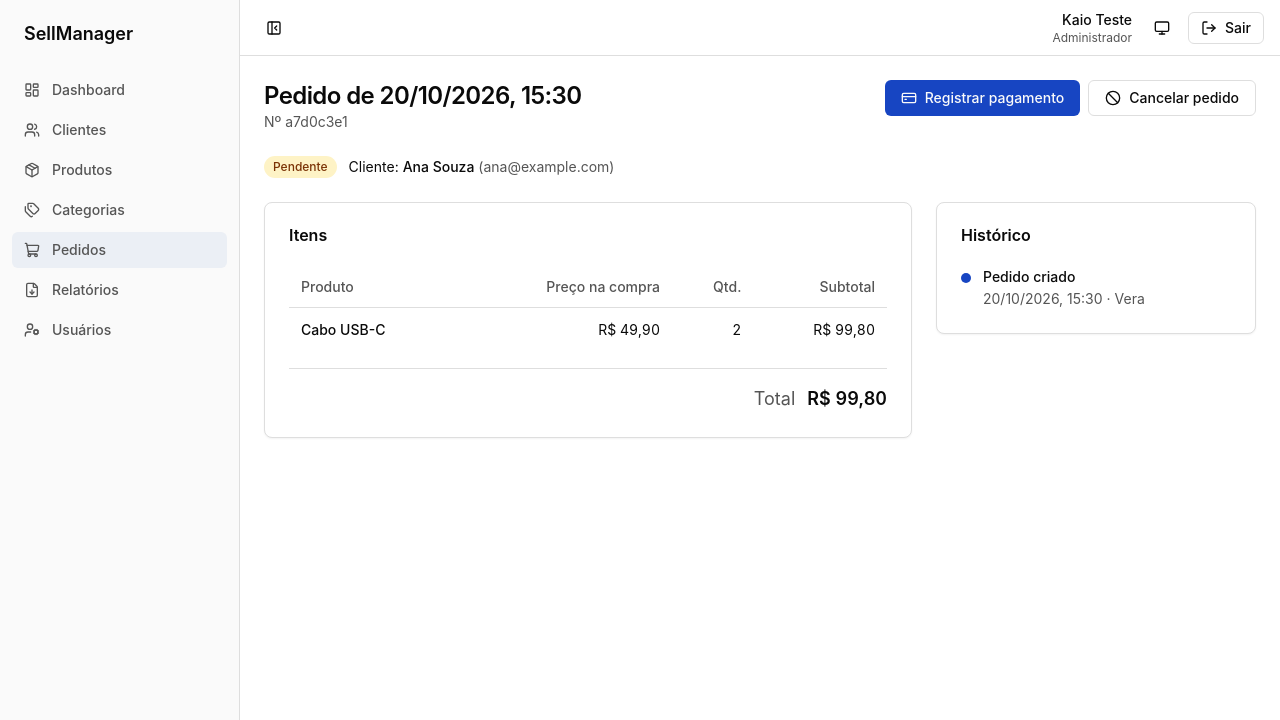
Test: Pedidos › detalhe mostra itens a preço da compra e cancela com motivo
The image size is (1280, 720).
Check: the text "R$ 49,90" is shown, box [458,308,672,352]
Check: the text "R$ 99,80" is shown, box [753,308,887,352]
Click the button "Cancelar pedido" at {"x": 1172, "y": 98}, box [1088,80,1256,116]
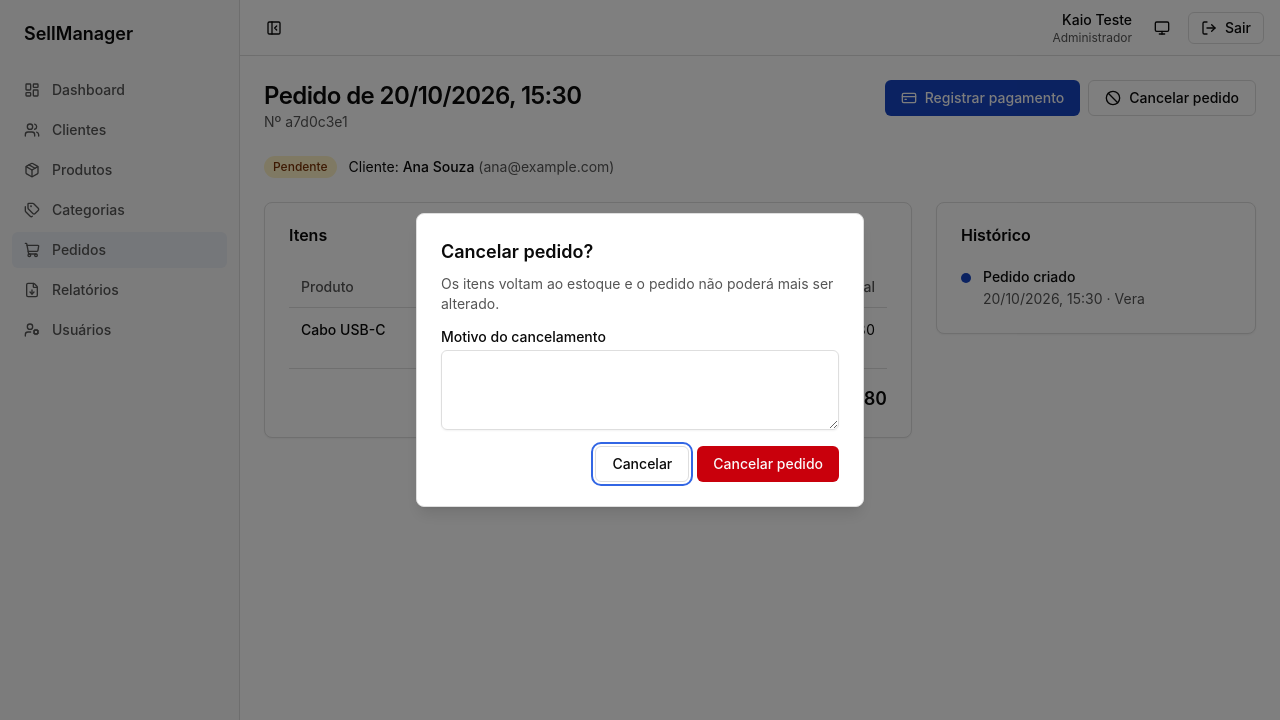
sem motivo: o schema do shared barra antes de chamar a API
Click the button "Cancelar pedido" at {"x": 768, "y": 464}, box [697,446,839,482]
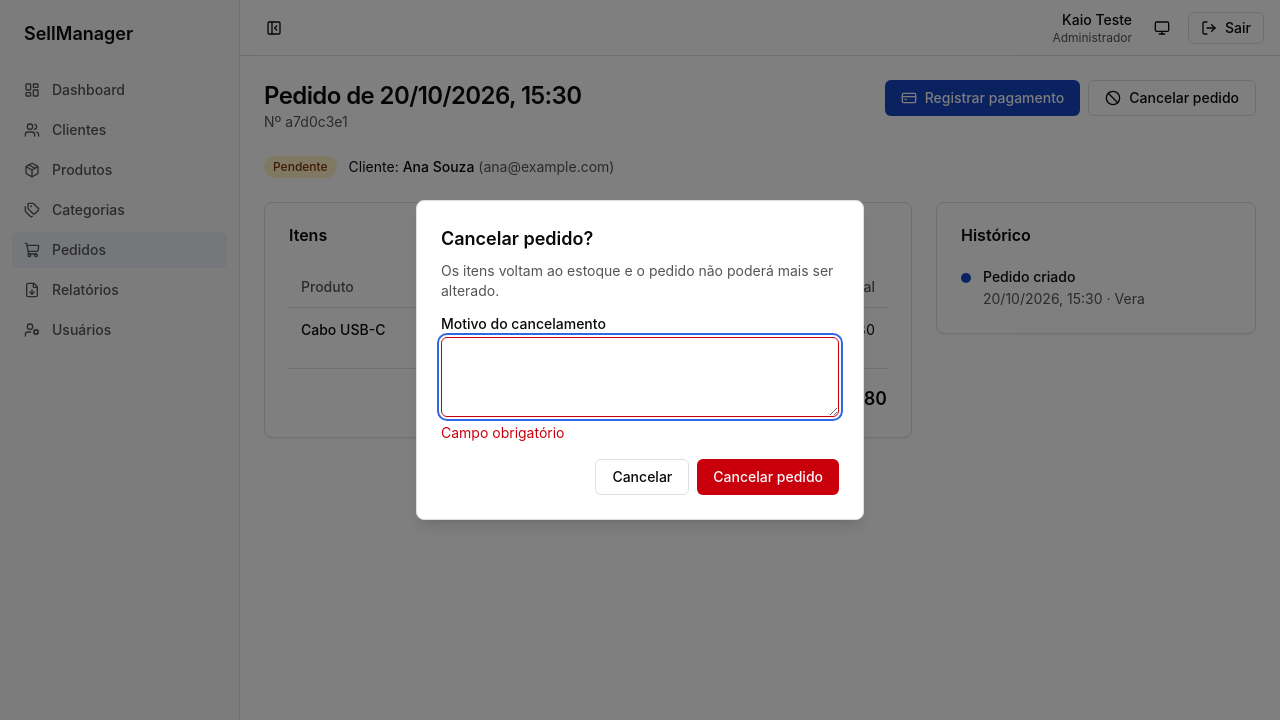
Type "Cliente desistiu" into the text box labelled "Motivo do cancelamento" at {"x": 640, "y": 377}, box [441,337,839,417]
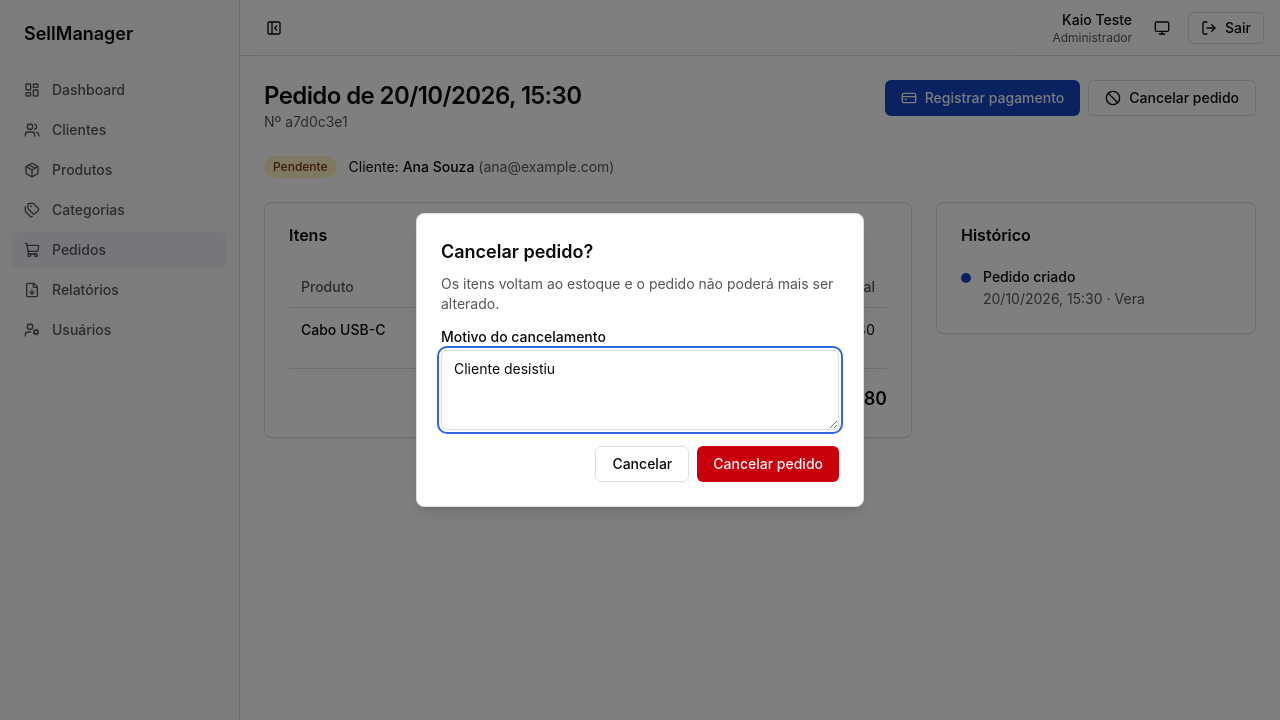
Click the button "Cancelar pedido" at {"x": 768, "y": 464}, box [697,446,839,482]
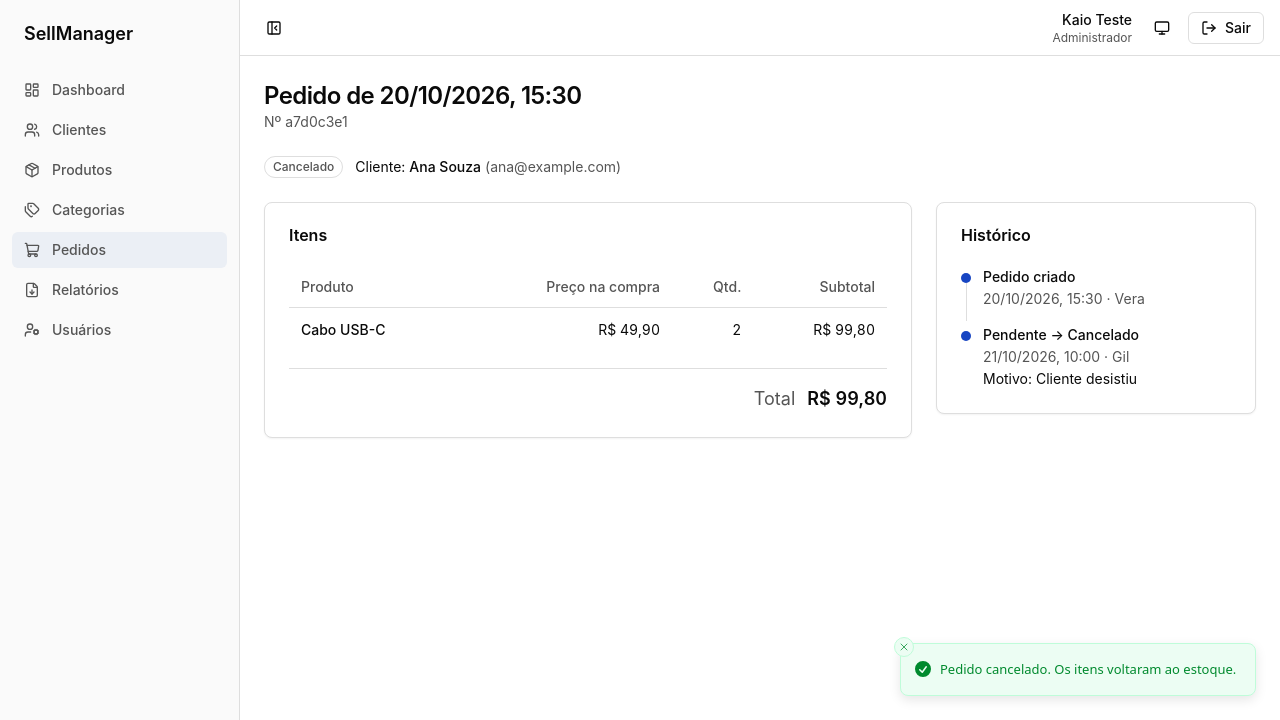
Check: the text "Pedido cancelado. Os itens voltaram ao estoque." is shown, box [940,660,1236,679]
Check: the button "Registrar pagamento" is gone
